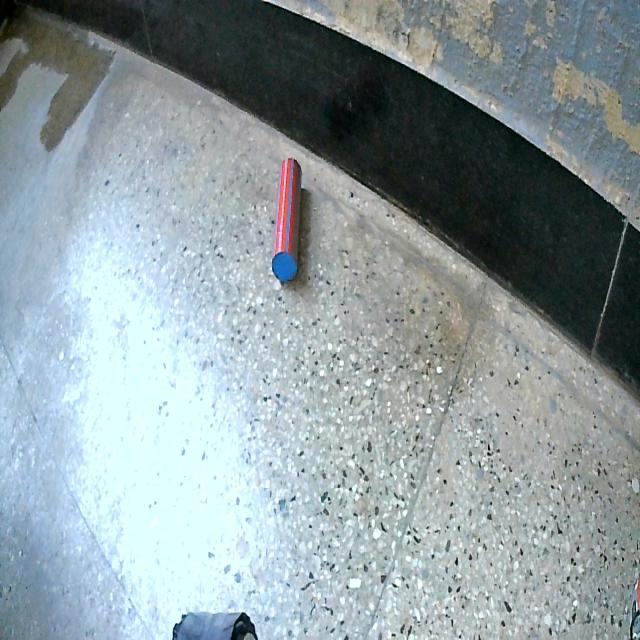cylinder: (267, 145, 326, 312)
